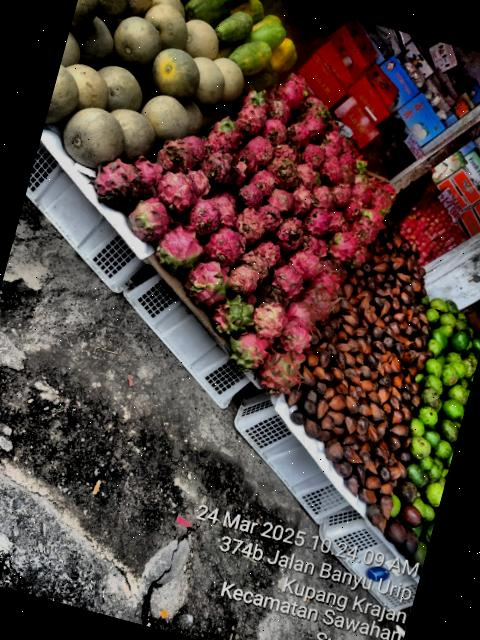buah-naga-belum-matang: (180, 253, 238, 314), (154, 220, 206, 280), (210, 288, 260, 344), (256, 346, 304, 402), (128, 193, 173, 250), (230, 328, 272, 376), (250, 296, 290, 346), (233, 87, 273, 134), (205, 115, 248, 154), (225, 259, 264, 299), (328, 224, 360, 268), (357, 205, 392, 234)
buah-naga-matang: (88, 152, 147, 212), (152, 168, 202, 218), (202, 186, 248, 232), (196, 146, 241, 192), (228, 203, 274, 246), (268, 260, 311, 305), (153, 132, 197, 174), (204, 224, 246, 267), (185, 196, 226, 240), (278, 313, 316, 356), (129, 154, 168, 195), (300, 284, 338, 326), (289, 246, 328, 286), (269, 215, 304, 258), (270, 154, 310, 188), (300, 204, 336, 240), (243, 134, 278, 170), (308, 182, 343, 214), (246, 168, 282, 198), (349, 215, 381, 248), (276, 78, 307, 110), (266, 186, 298, 216), (280, 120, 312, 150), (234, 182, 267, 210), (266, 100, 298, 128), (372, 186, 400, 218), (314, 154, 344, 183), (260, 117, 289, 144), (302, 107, 331, 133), (350, 178, 376, 205), (320, 132, 346, 158), (316, 267, 340, 294), (302, 143, 326, 170), (344, 200, 362, 222)
